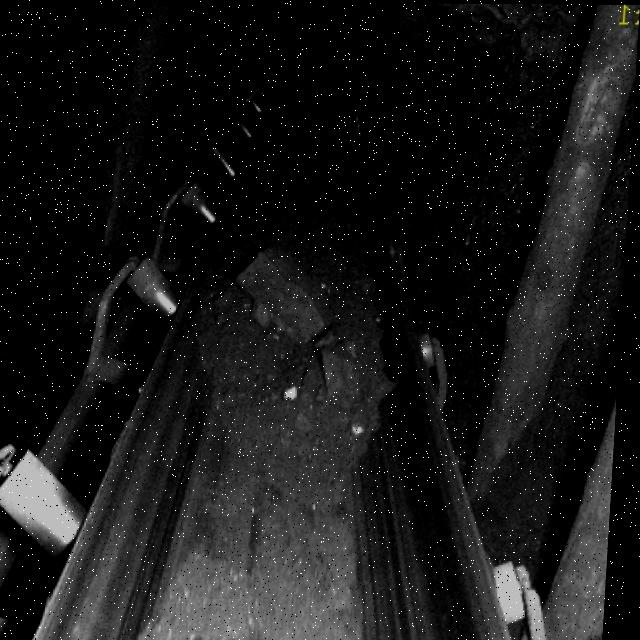large_sized_coal: (236, 255, 340, 337)
